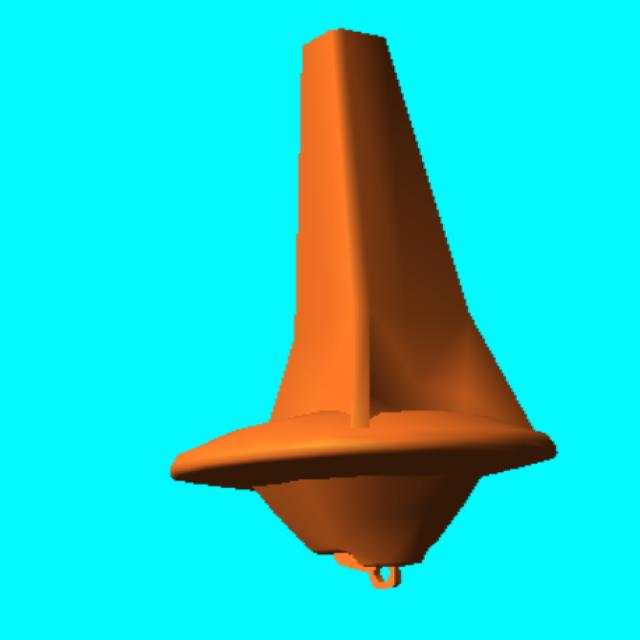OrangeBuoy: (171, 30, 555, 588)
